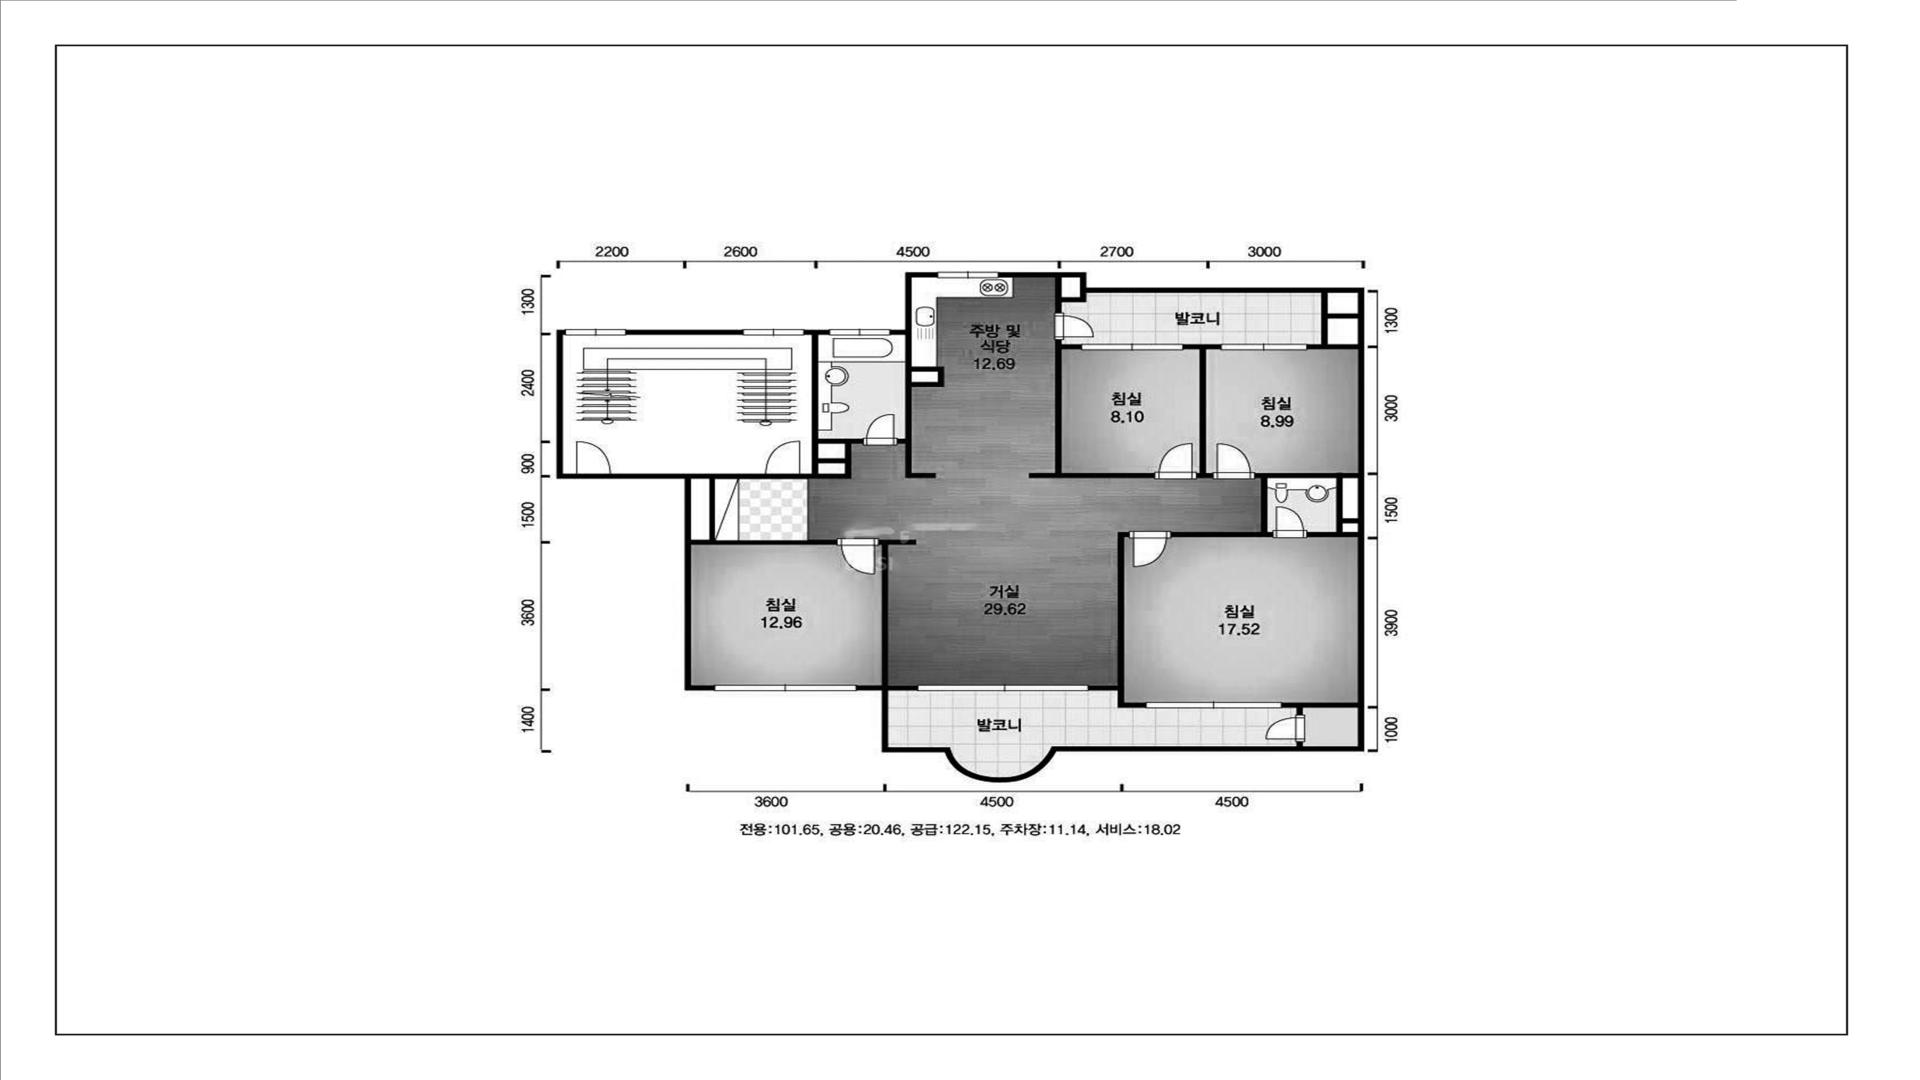door: (1129, 531, 1171, 568), (1154, 443, 1197, 479), (837, 538, 878, 575), (1213, 443, 1254, 479), (764, 440, 800, 479), (576, 441, 612, 479), (863, 414, 898, 446), (1273, 506, 1307, 538), (1054, 313, 1094, 340), (1265, 715, 1305, 741), (918, 685, 1088, 691), (1146, 702, 1282, 708), (1082, 344, 1183, 350), (1221, 344, 1307, 350)
wall: (856, 272, 1365, 783), (611, 474, 765, 690), (1029, 340, 1155, 478), (1171, 473, 1358, 537), (1088, 532, 1146, 708), (691, 479, 837, 545), (897, 334, 936, 478), (878, 540, 916, 686), (1183, 344, 1221, 478), (800, 330, 830, 479), (890, 272, 938, 334), (1307, 292, 1358, 349), (557, 330, 576, 478), (818, 439, 863, 479), (1055, 277, 1086, 313), (1282, 703, 1358, 715), (911, 367, 944, 387), (626, 330, 743, 335), (888, 686, 918, 690), (1297, 741, 1303, 747)
window: (715, 685, 856, 691), (743, 329, 804, 336), (566, 329, 626, 336), (830, 329, 890, 336), (938, 272, 998, 278)
